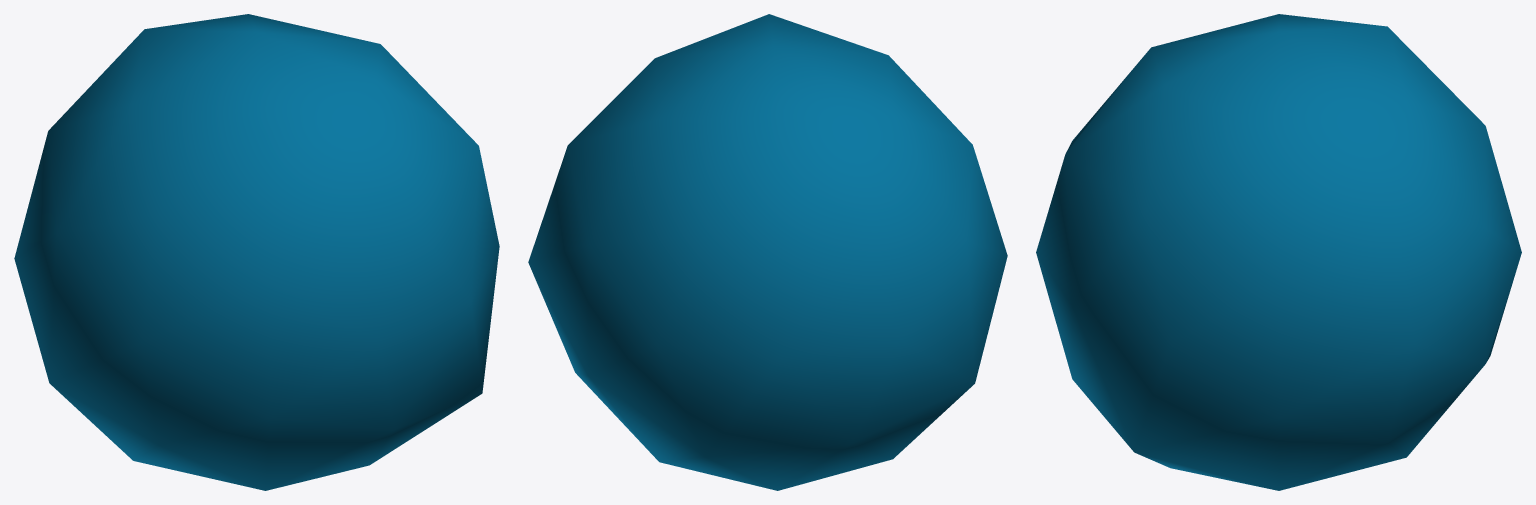
Rendered from BulletWaterBall.fbx.
3 renders of one model, left to right at view 1: azimuth 30°, elevation 25°; view 2: azimuth 150°, elevation 25°; view 3: azimuth 270°, elevation 25°, orthographic. The views are drawn at different scales.
Parts seen in each view (by area): view 1: Bullet_SnowBall; view 2: Bullet_SnowBall; view 3: Bullet_SnowBall.
Part boxes in pixels (bbox=[...]): Bullet_SnowBall: bbox=[14, 14, 499, 490]; Bullet_SnowBall: bbox=[528, 14, 1007, 490]; Bullet_SnowBall: bbox=[1036, 14, 1521, 490].
Size of the model in its own units: 0.257 by 0.2648 by 0.2648.
Materials: 1 (1 with a texture image).
